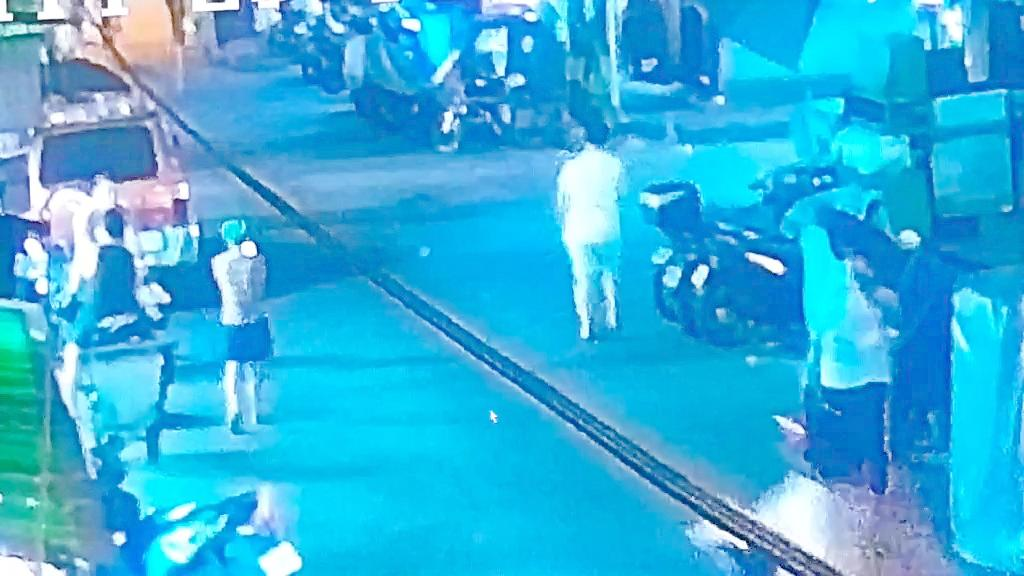Car: (19, 109, 222, 297)
Motor: (335, 0, 528, 169), (646, 157, 806, 357)
